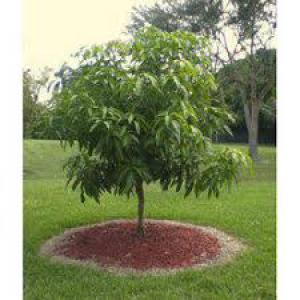Tree: (51, 20, 241, 235)
